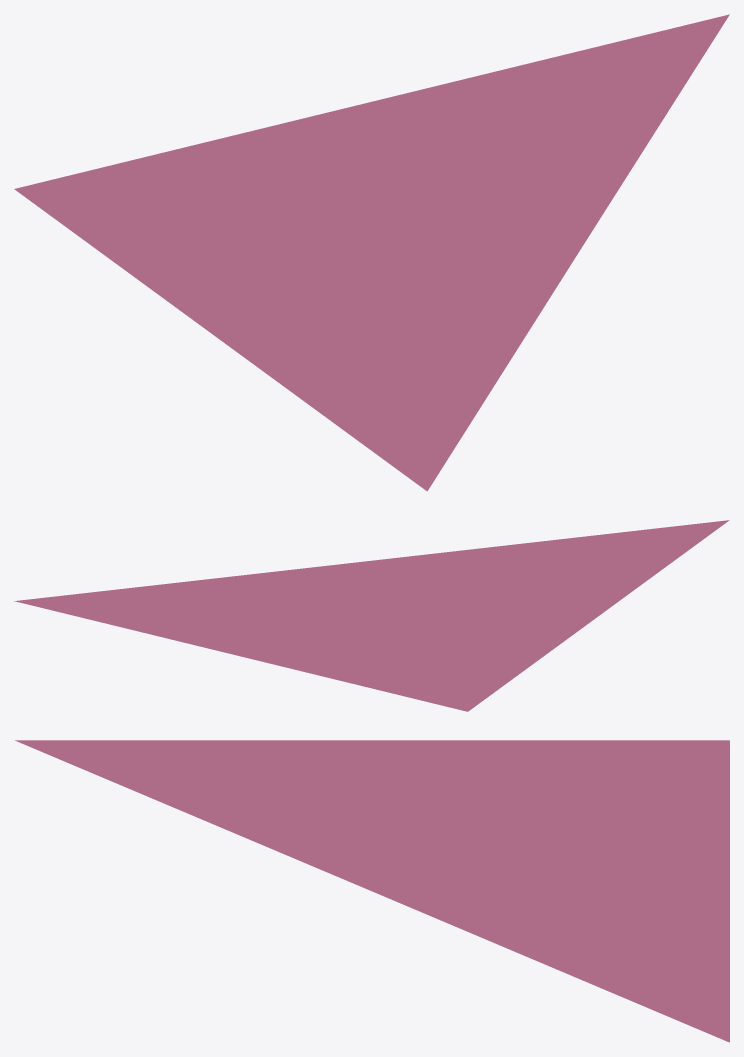
File: Module_Diagonal_Corner_Mesh_01_v01_Top.fbx
3 views of the same model, one above another, from view 1: azimuth 30°, elevation 25°; view 2: azimuth 150°, elevation 25°; view 3: azimuth 270°, elevation 25° (orthographic). The views are drawn at different scales.
Parts seen in each view (by area): view 1: Module_Diagonal_Corner_Mesh_01_v01_Top; view 2: Module_Diagonal_Corner_Mesh_01_v01_Top; view 3: Module_Diagonal_Corner_Mesh_01_v01_Top.
Part boxes in pixels (x1=…): Module_Diagonal_Corner_Mesh_01_v01_Top: x1=14, y1=14, x2=729, y2=491; Module_Diagonal_Corner_Mesh_01_v01_Top: x1=14, y1=520, x2=729, y2=711; Module_Diagonal_Corner_Mesh_01_v01_Top: x1=15, y1=740, x2=729, y2=1042.
Bounding box in the file's own units: 128 × 0 × 128.
